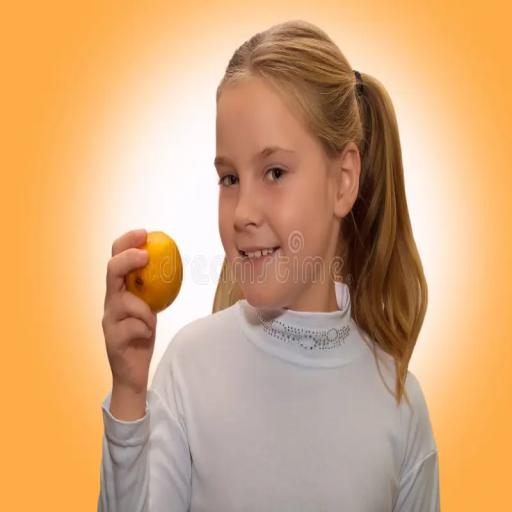orange: (126, 232, 183, 313)
